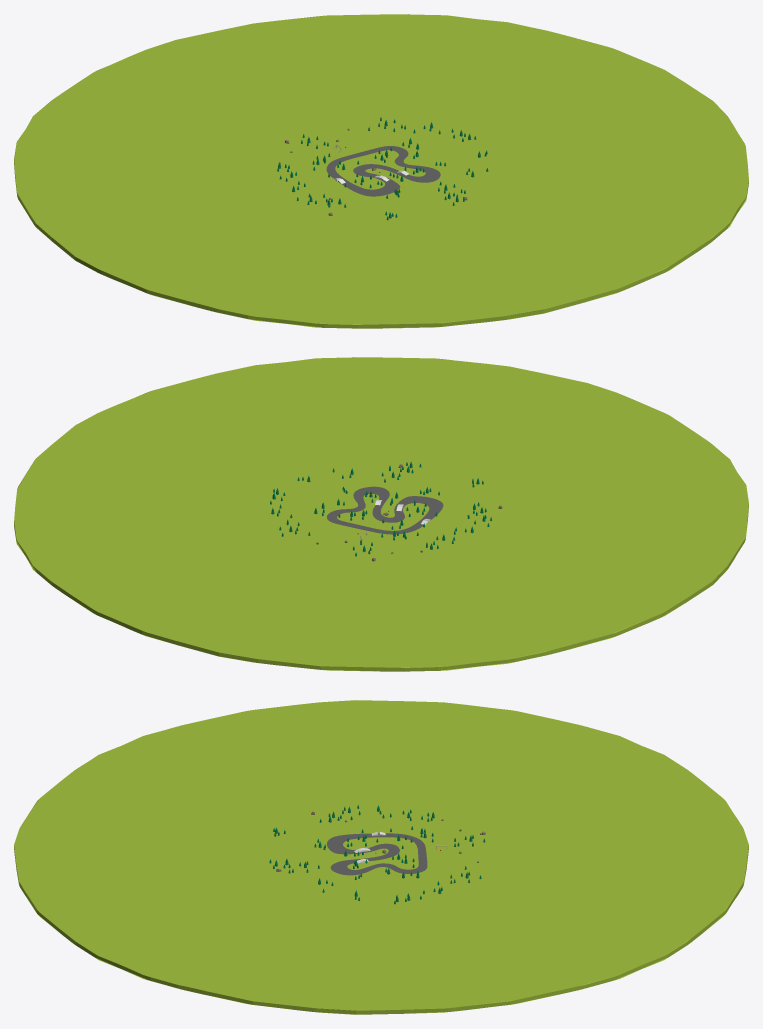
Rendered from map6.fbx.
3 views of the same model, one above another, from view 1: azimuth 30°, elevation 25°; view 2: azimuth 150°, elevation 25°; view 3: azimuth 270°, elevation 25° (orthographic).
Visible parts, largest first — view 1: Cylinder, Curve; view 2: Cylinder, Curve; view 3: Cylinder, Curve.
Part boxes in pixels (x1=…): Cylinder: x1=14, y1=14, x2=748, y2=328; Curve: x1=326, y1=146, x2=440, y2=196; Cylinder: x1=14, y1=357, x2=748, y2=671; Curve: x1=327, y1=486, x2=443, y2=534; Cylinder: x1=14, y1=700, x2=748, y2=1014; Curve: x1=327, y1=833, x2=427, y2=875.
Bounding box in the file's own units: 862 × 862 × 14.28.
